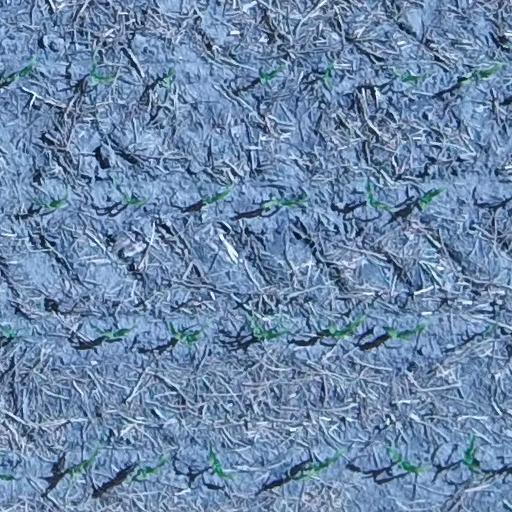planta: (289, 446, 347, 484), (384, 444, 433, 477), (244, 312, 293, 344), (457, 58, 507, 88), (125, 453, 172, 484), (205, 443, 241, 483), (321, 312, 369, 342), (67, 442, 102, 482), (383, 316, 434, 343), (362, 179, 397, 215), (2, 55, 40, 85), (166, 321, 205, 350), (86, 54, 117, 88), (198, 181, 236, 208), (458, 432, 483, 473), (260, 192, 310, 212), (416, 184, 448, 213), (255, 60, 289, 87), (94, 324, 134, 343), (389, 66, 424, 87), (30, 194, 68, 212), (318, 59, 337, 91), (120, 192, 149, 209)
